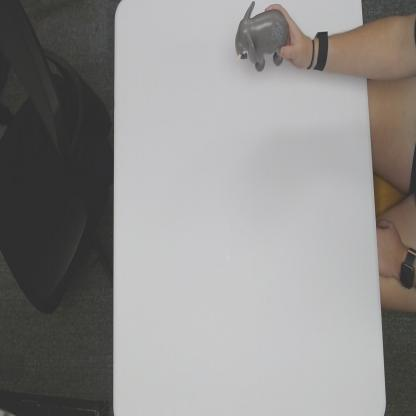Arm: (328, 27, 369, 80)
Elephant: (234, 0, 289, 72)
Hand: (265, 2, 314, 70)
